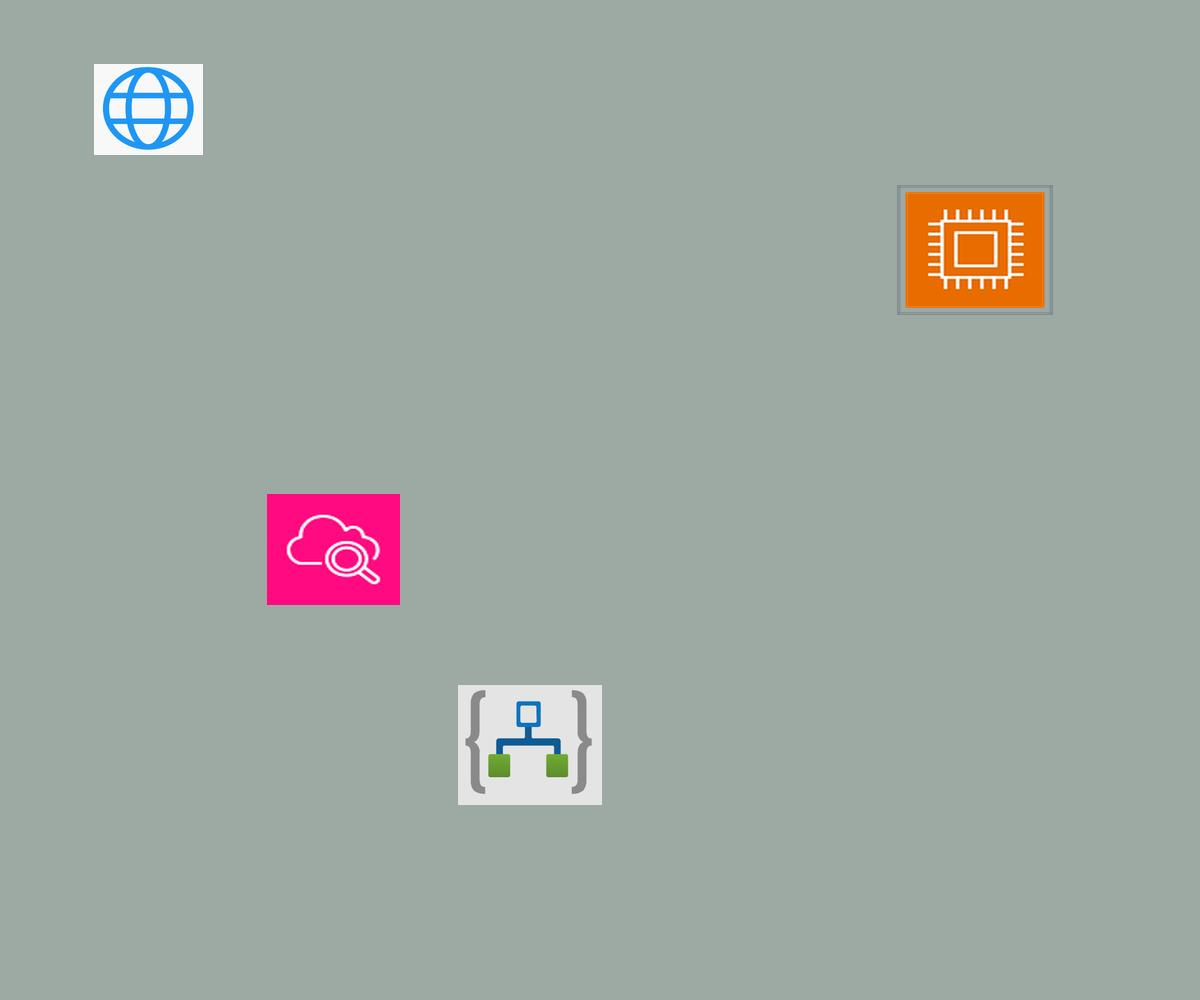AWS-Category_Compute: (897, 185, 1053, 315)
AWS-CloudWatch: (267, 494, 400, 605)
Azure_http: (94, 64, 203, 155)
Azure_integration-204-Logic-Apps: (458, 685, 602, 805)
